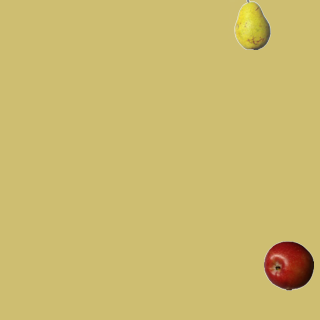Apple Braeburn: (263, 240, 313, 290)
Pear Monster: (227, 0, 277, 49)
